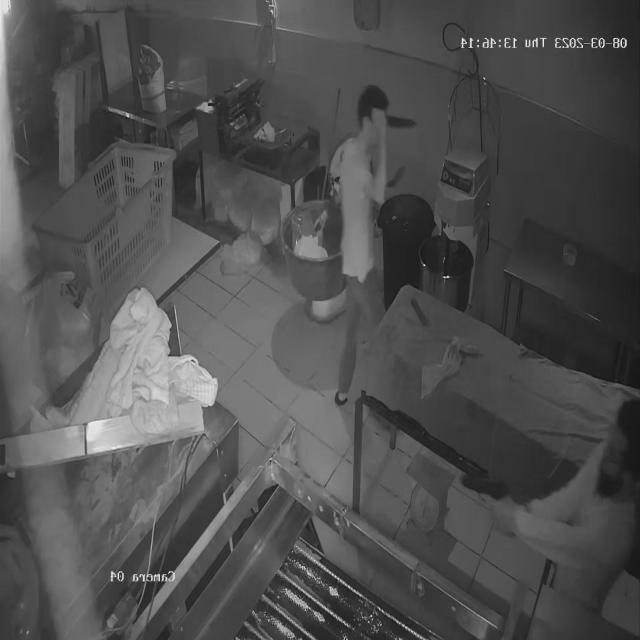Gun: (452, 461, 516, 521)
Knife: (356, 104, 422, 138)
